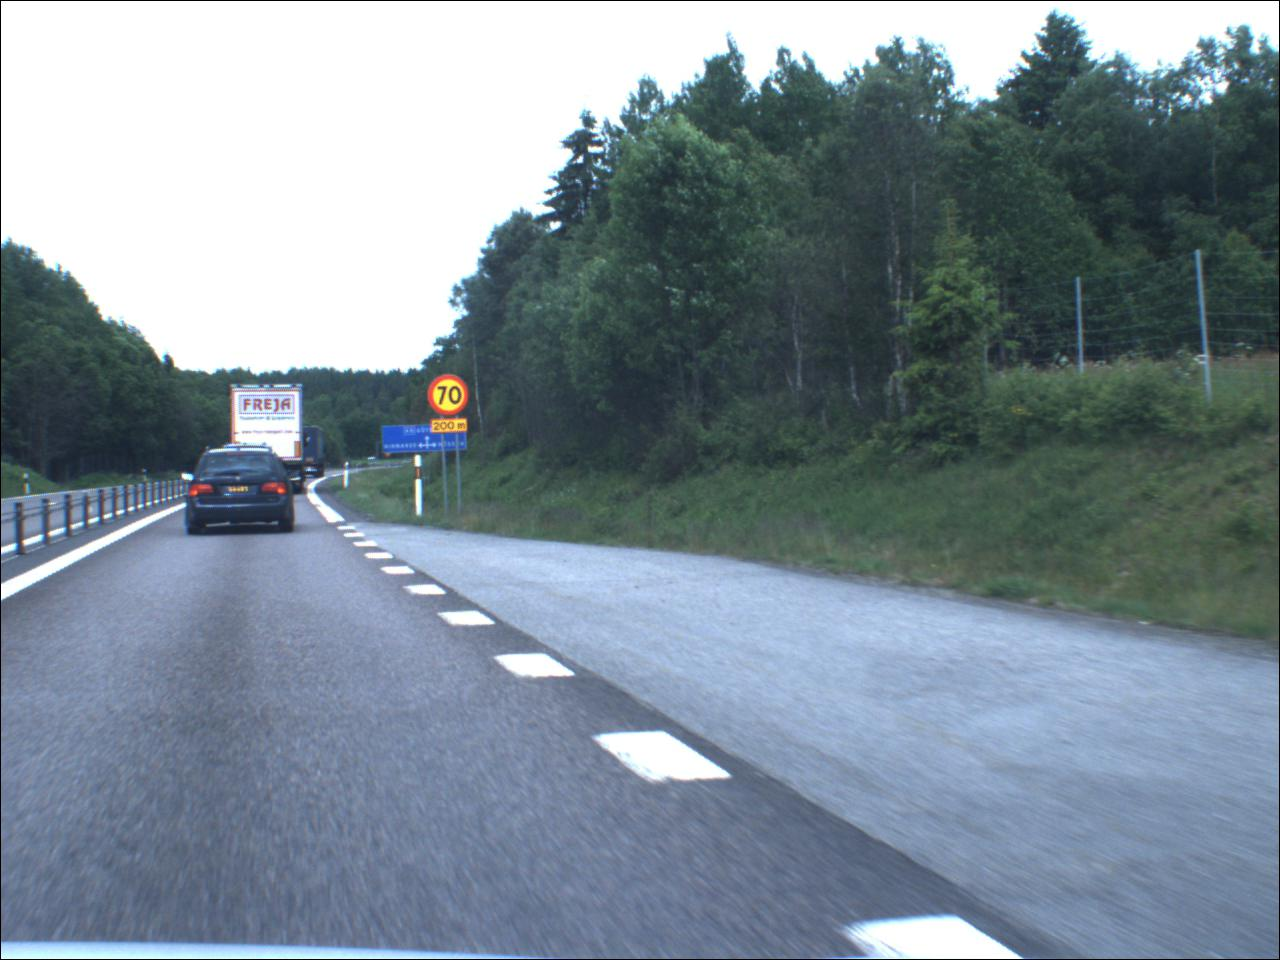70_SIGN: (427, 375, 477, 419)
